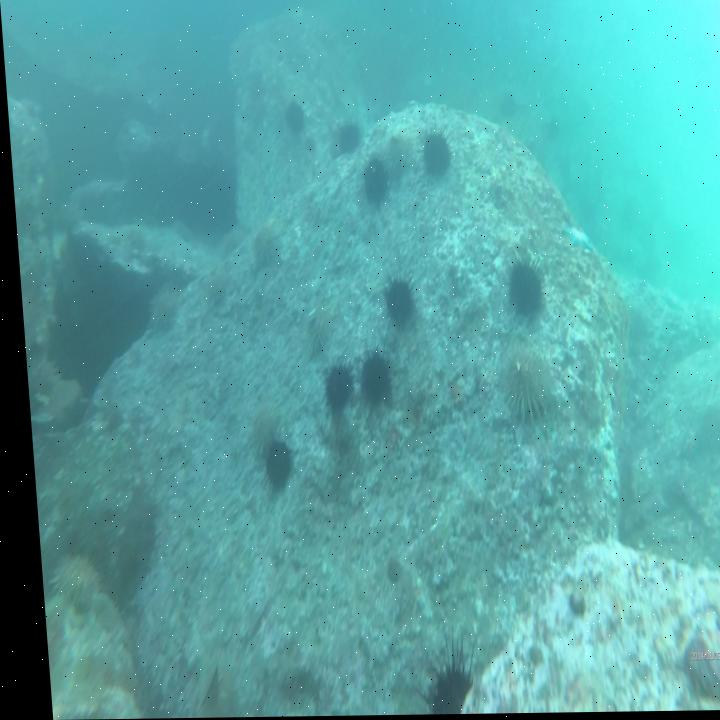echinus: (395, 638, 471, 716), (490, 336, 545, 422), (498, 244, 544, 327), (413, 122, 457, 185), (375, 268, 415, 336), (316, 359, 353, 419), (243, 228, 281, 281), (353, 352, 387, 410), (353, 154, 388, 209), (255, 439, 289, 494), (142, 287, 178, 334), (238, 407, 274, 452), (195, 264, 228, 310), (331, 116, 365, 160), (296, 311, 327, 357), (279, 99, 306, 140), (715, 556, 720, 707)
